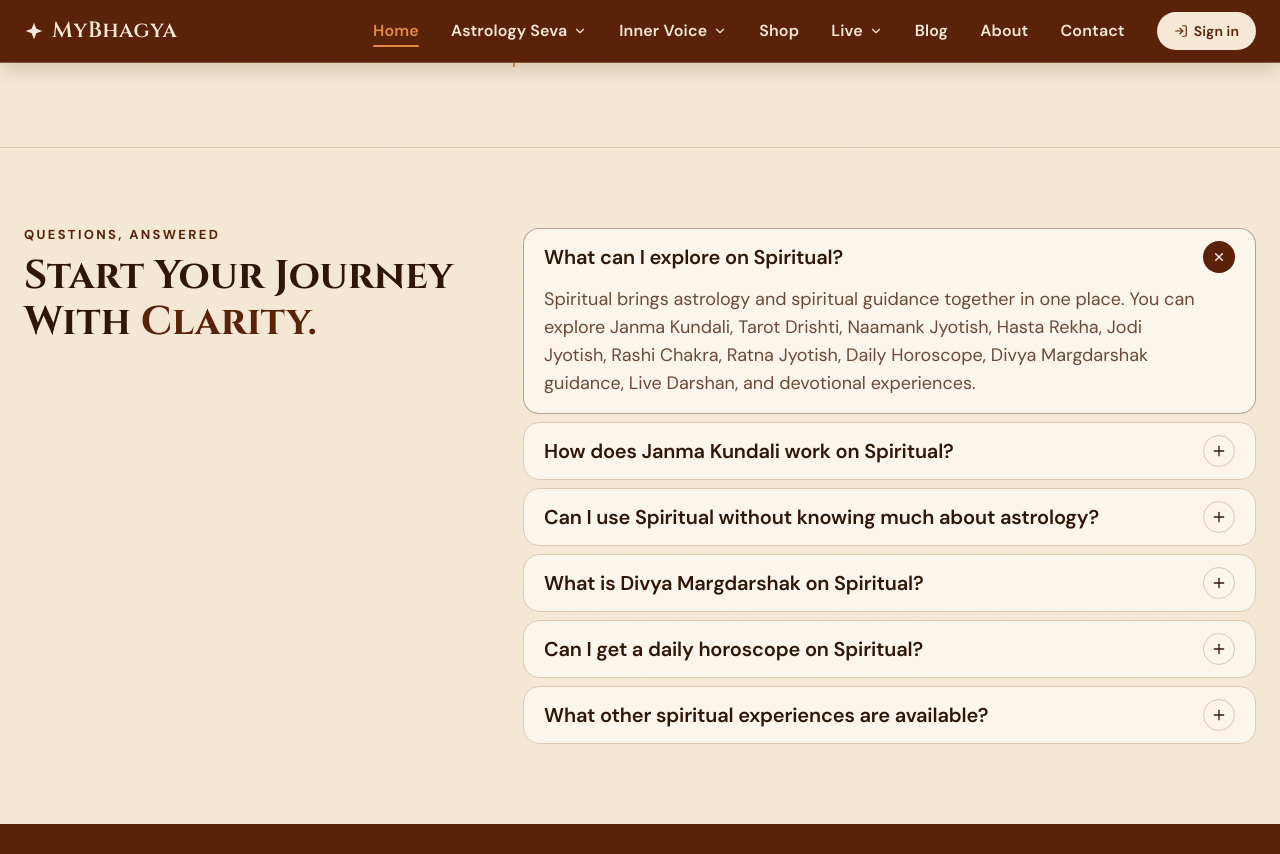
Test: homepage content and structure › FAQ keeps its content and toggles
(page scrolled)
Click the button "How does Janma Kundali work on Spiritual?" at (890, 451), box [524, 423, 1255, 479]
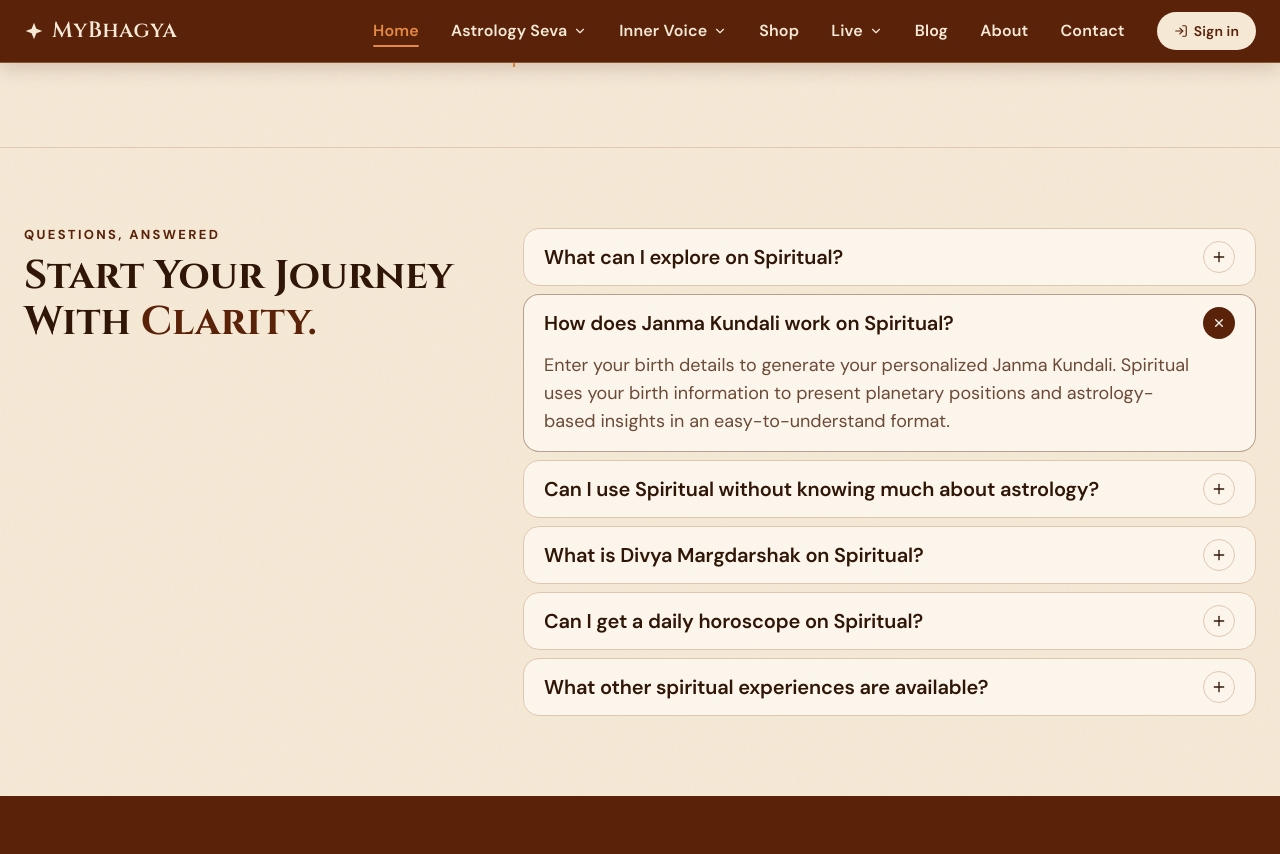
Check: the button "How does Janma Kundali work on Spiritual?" is expanded, box [524, 295, 1255, 351]
Check: the button "What can I explore on Spiritual?" is collapsed, box [524, 229, 1255, 285]
